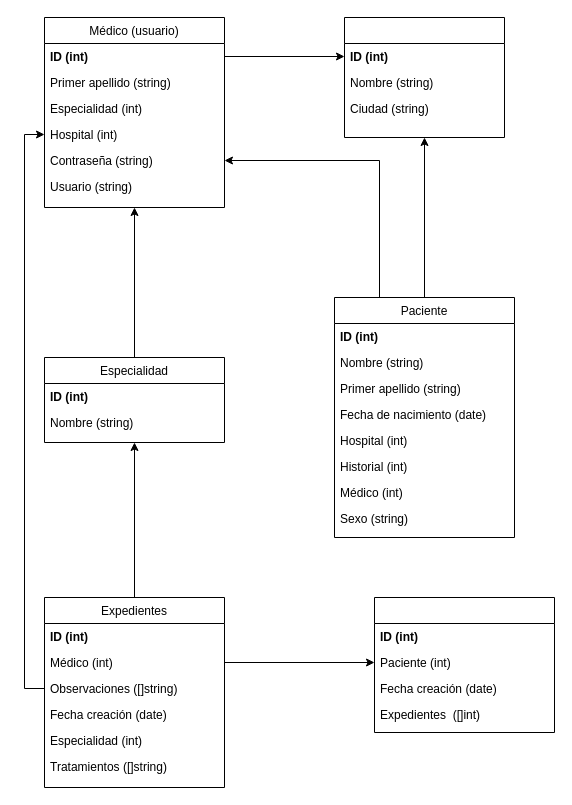
The diagram is 572 pixels wide and 805 high, and some of its shapes have lost their labels. The box of each missing label's shape, as (x1, y1, x2, y2) in pixels:
Historial: (374, 596, 554, 732)
Hospital: (344, 16, 504, 138)
